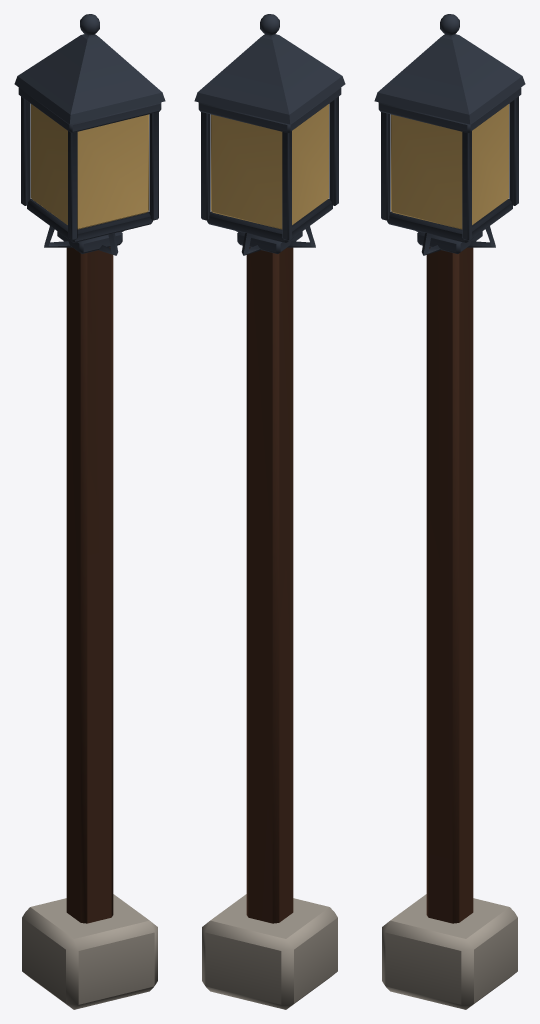
Rendered from street-lamp.glb.
The picture shows the model from 3 angles, left to right: view 1: azimuth 30°, elevation 25°; view 2: azimuth 150°, elevation 25°; view 3: azimuth 330°, elevation 25°; orthographic projection.
Visible parts, largest first — view 1: Street lamp Dark wood, Street lamp Iron, Street lamp Stone, Street lamp Street glow; view 2: Street lamp Dark wood, Street lamp Iron, Street lamp Stone, Street lamp Street glow; view 3: Street lamp Dark wood, Street lamp Iron, Street lamp Stone, Street lamp Street glow.
Part boxes in pixels (x1,y1,x2,y2): Street lamp Dark wood: [66, 247, 113, 923]; Street lamp Iron: [14, 14, 165, 255]; Street lamp Stone: [22, 894, 157, 1009]; Street lamp Street glow: [31, 104, 148, 229]; Street lamp Dark wood: [246, 247, 293, 923]; Street lamp Iron: [194, 14, 345, 255]; Street lamp Stone: [202, 894, 337, 1009]; Street lamp Street glow: [211, 104, 328, 229]; Street lamp Dark wood: [426, 247, 473, 923]; Street lamp Iron: [374, 14, 525, 255]; Street lamp Stone: [382, 894, 517, 1009]; Street lamp Street glow: [391, 104, 508, 229].
Bounding box in the file's own units: 0.3536 × 3.42 × 0.3536.
